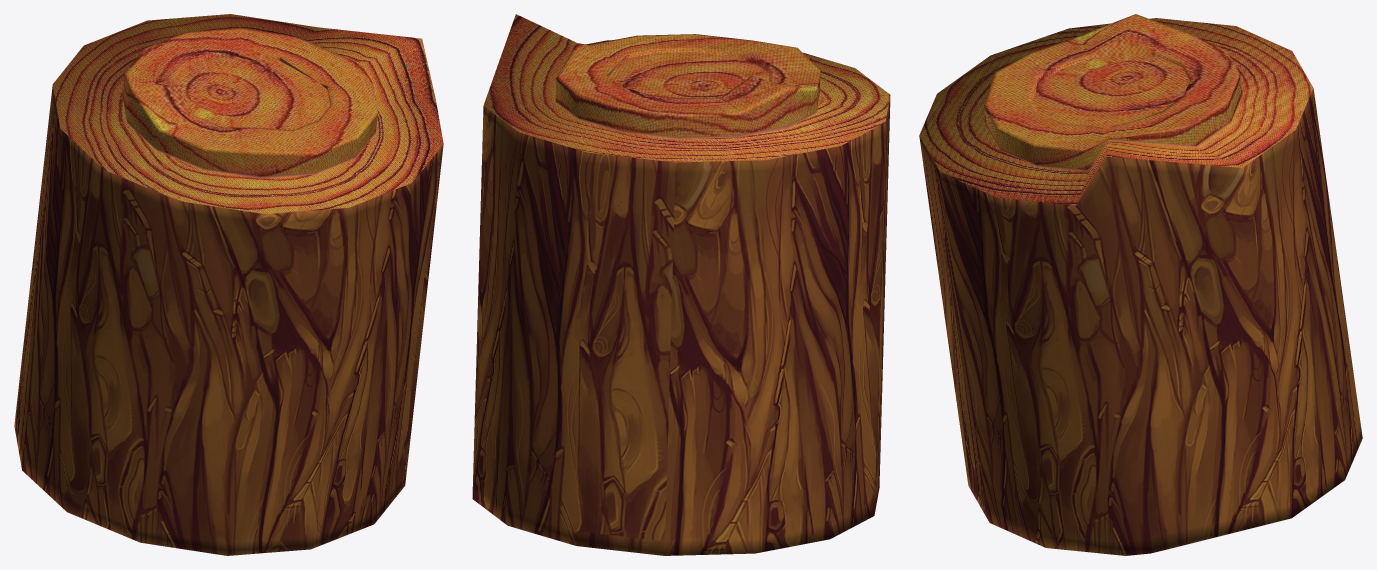
File: log.gltf
The picture shows the model from 3 angles, left to right: view 1: azimuth 30°, elevation 25°; view 2: azimuth 150°, elevation 25°; view 3: azimuth 270°, elevation 25°; orthographic projection. The views are drawn at different scales.
Visible parts, largest first — view 1: Cylinder; view 2: Cylinder; view 3: Cylinder.
Boxes of the visible parts, <box> form: Cylinder: <box>14,14,443,555</box>; Cylinder: <box>472,14,890,555</box>; Cylinder: <box>919,14,1362,555</box>.
Size of the model in its own units: 2.04 by 2.36 by 2.23.
2 materials, 2 textured.
